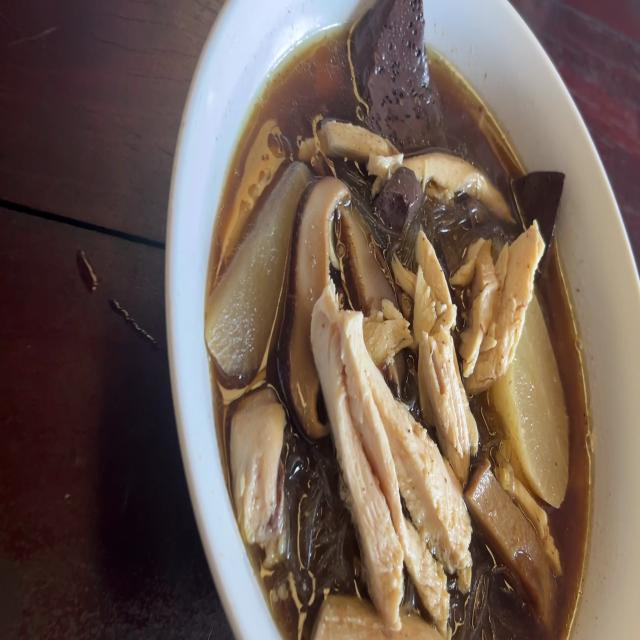noodle: (340, 0, 434, 140), (512, 161, 561, 232), (376, 169, 424, 235)
